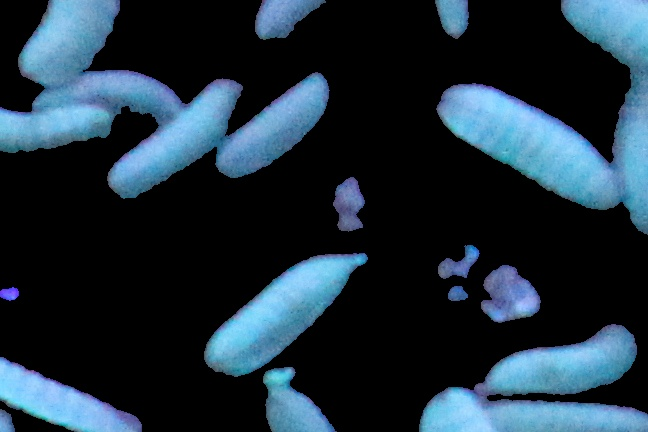larvae: (437, 81, 615, 216), (210, 255, 362, 365), (113, 68, 241, 196), (218, 71, 329, 181), (482, 318, 639, 395), (1, 353, 144, 432), (12, 1, 120, 83), (555, 1, 648, 90), (35, 71, 185, 124), (609, 84, 648, 244), (485, 394, 648, 432), (1, 104, 112, 157)
